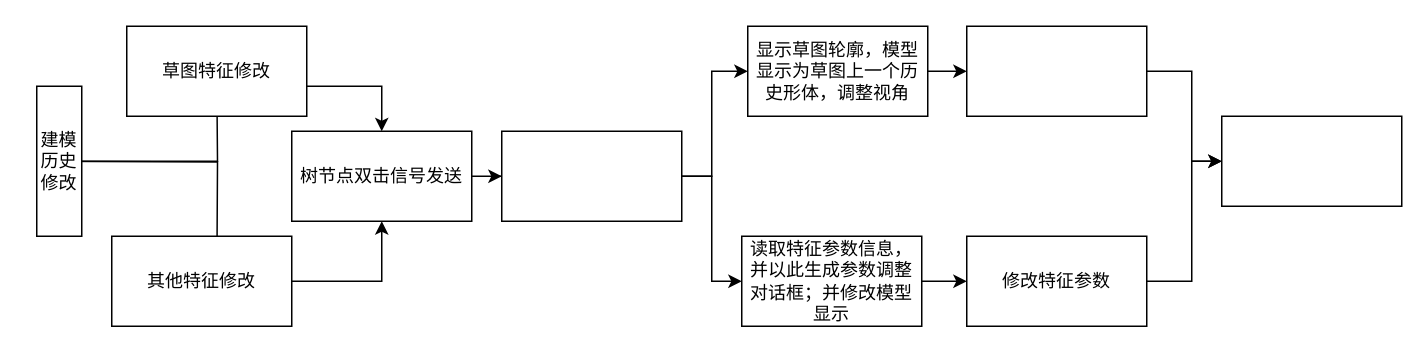
This 1428x353 diagram has some shape labels left out. The box of each missing label's shape, as (x1, y1, x2, y2) in pixels:
从修改的特征开始进行模型重建: (1220, 115, 1402, 206)
修改草图数据: (965, 25, 1147, 116)
由树节点在特征历史树中的X、Y坐标从数据模型Map容器中取得对应的特征对象: (500, 130, 682, 221)
